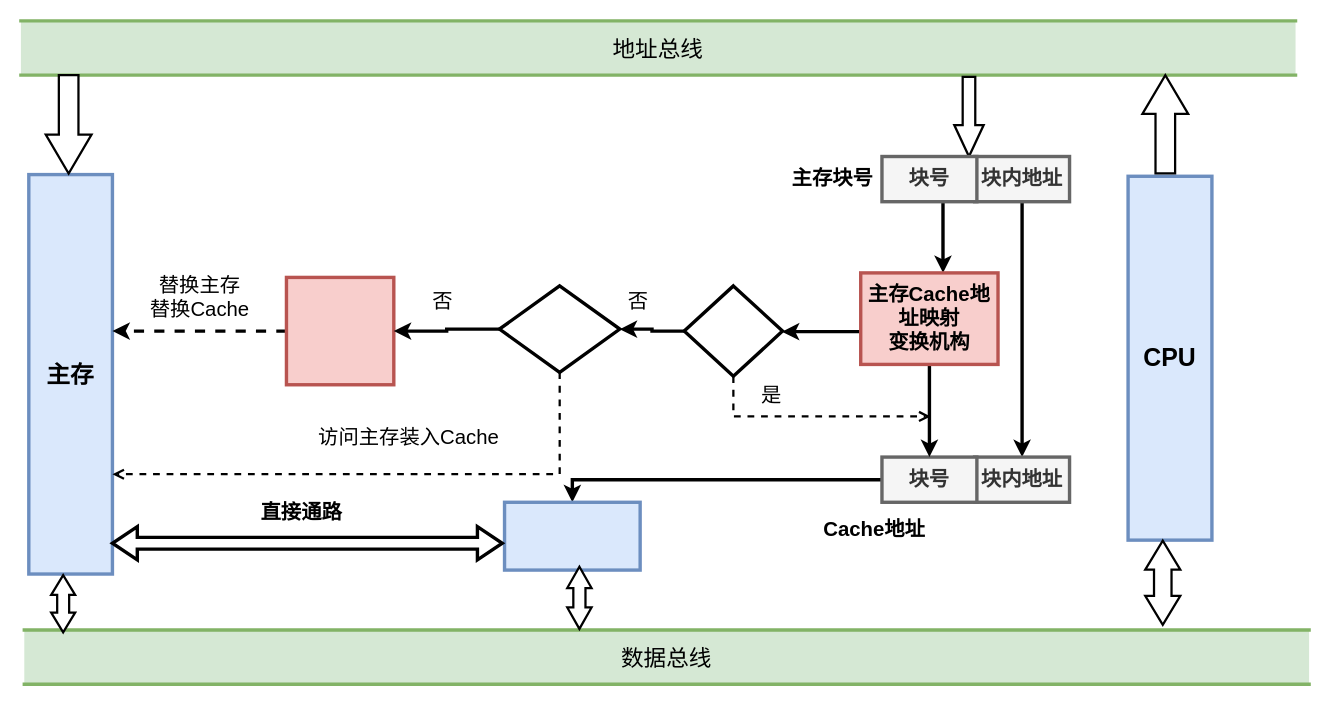
This 1330x705 diagram has some shape labels left out. The shapes that lost their labels are listed below. From the top down, each one's centre as x and y in pixels, then its label:
At point 339,330: "Cache替换机构".
At point 559,328: "可装入？".
At point 733,330: "命中？".
At point 571,535: "Cache存储体".
